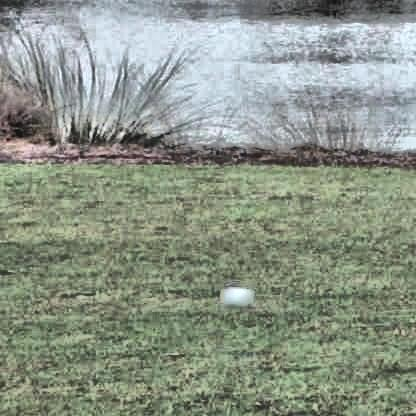golfball: (218, 283, 252, 303)
